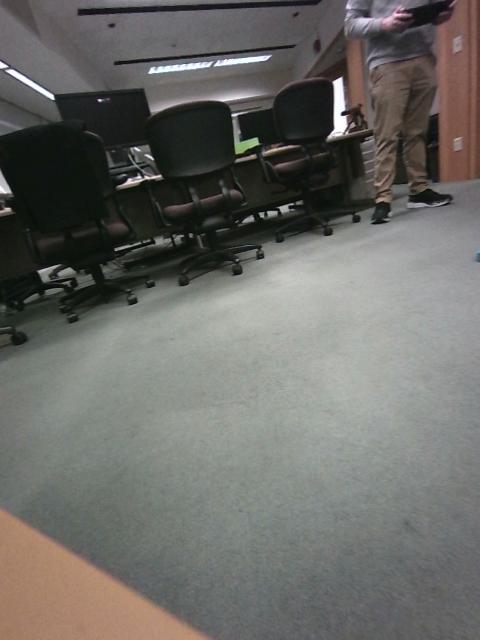block: (238, 357, 296, 429)
